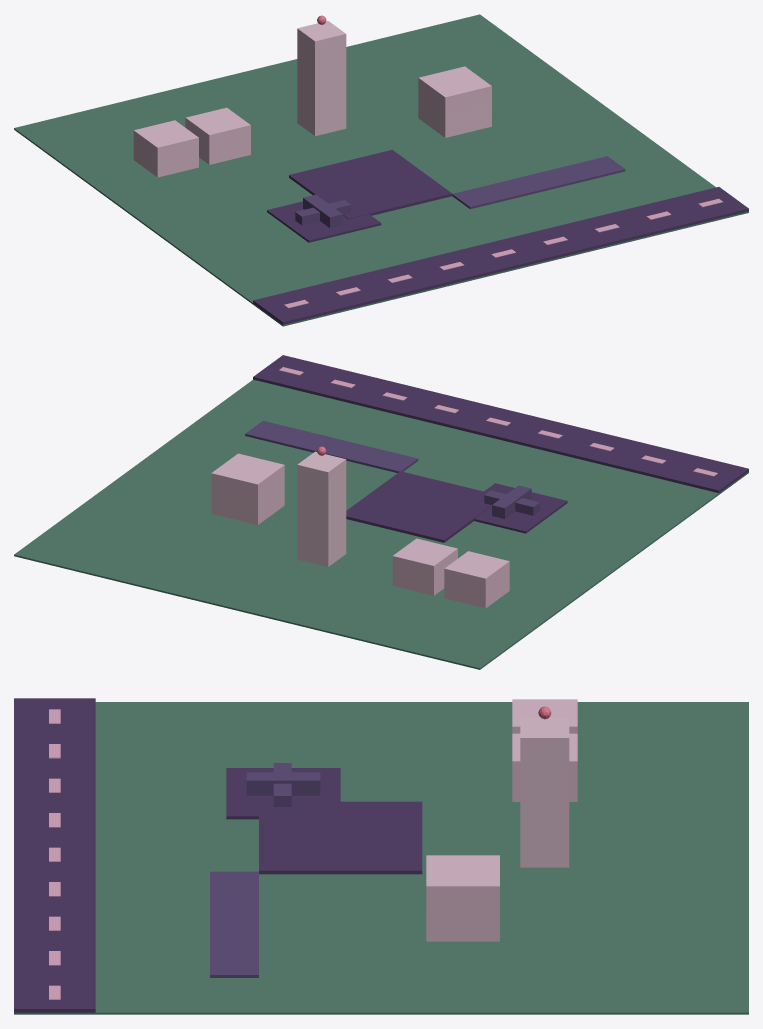
File: stage_07.glb
The picture shows the model from 3 angles, top to bottom: view 1: azimuth 30°, elevation 25°; view 2: azimuth 150°, elevation 25°; view 3: azimuth 270°, elevation 25°; orthographic projection. The views are drawn at different scales.
Parts seen in each view (by area): view 1: geometry_0; view 2: geometry_0; view 3: geometry_0.
Part boxes in pixels (<box>): geometry_0: <box>14,14,748,326</box>; geometry_0: <box>14,355,748,669</box>; geometry_0: <box>14,698,748,1014</box>.
Bounding box in the file's own units: 9 × 2.06 × 9.
